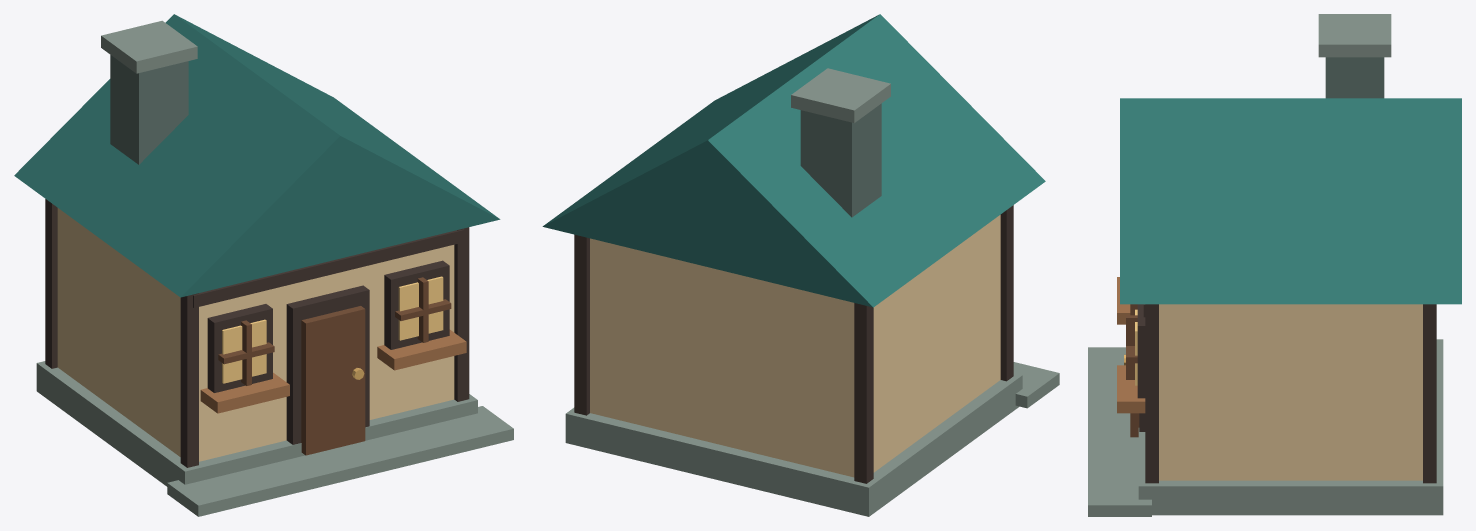
File: chata.glb
3 renders of one model, left to right at view 1: azimuth 30°, elevation 25°; view 2: azimuth 150°, elevation 25°; view 3: azimuth 270°, elevation 25°, orthographic. The views are drawn at different scales.
Visible parts, largest first — view 1: material_357c76, material_f2d5a5, material_8b9b92, material_483b36, material_785239, material_667b75, material_ad7950, material_ffd68a; view 2: material_f2d5a5, material_357c76, material_8b9b92, material_483b36, material_667b75; view 3: material_357c76, material_f2d5a5, material_8b9b92, material_483b36, material_667b75, material_ad7950, material_785239.
Boxes of the visible parts, left/top/right/bottom form: material_357c76: left=14, top=14, right=500, bottom=297; material_f2d5a5: left=57, top=208, right=454, bottom=461; material_8b9b92: left=36, top=20, right=513, bottom=516; material_483b36: left=45, top=199, right=469, bottom=467; material_785239: left=218, top=277, right=451, bottom=455; material_667b75: left=110, top=55, right=188, bottom=164; material_ad7950: left=200, top=329, right=466, bottom=413; material_ffd68a: left=222, top=276, right=443, bottom=383; material_f2d5a5: left=590, top=215, right=1000, bottom=477; material_357c76: left=542, top=14, right=1045, bottom=307; material_8b9b92: left=565, top=68, right=1059, bottom=516; material_483b36: left=574, top=205, right=1013, bottom=483; material_667b75: left=800, top=103, right=881, bottom=217; material_357c76: left=1120, top=98, right=1461, bottom=304; material_f2d5a5: left=1159, top=304, right=1422, bottom=480; material_8b9b92: left=1088, top=14, right=1443, bottom=516; material_483b36: left=1137, top=304, right=1436, bottom=483; material_667b75: left=1325, top=57, right=1384, bottom=98; material_ad7950: left=1117, top=277, right=1145, bottom=413; material_785239: left=1126, top=304, right=1139, bottom=437.
Size of the model in its own units: 3.55 by 3.87 by 3.5.
